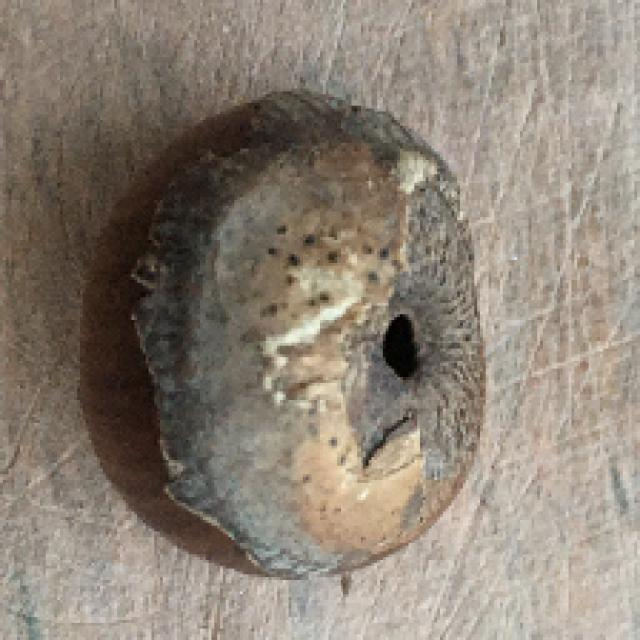damagedHazelnut: (84, 82, 488, 582)
